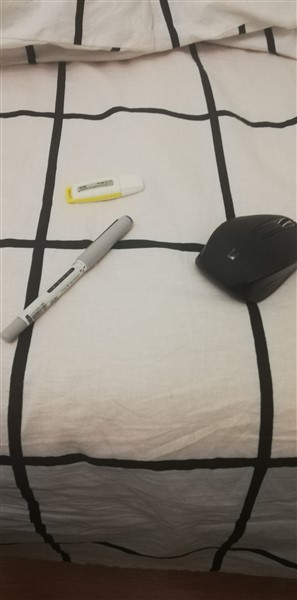flash disk: (63, 172, 168, 206)
mouse: (196, 199, 297, 313)
pilot kalem: (1, 212, 138, 352)
